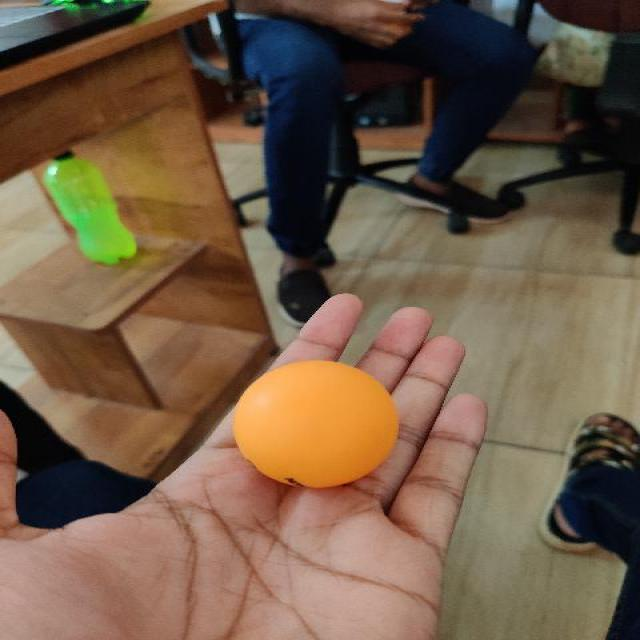oball: (233, 360, 399, 488)
